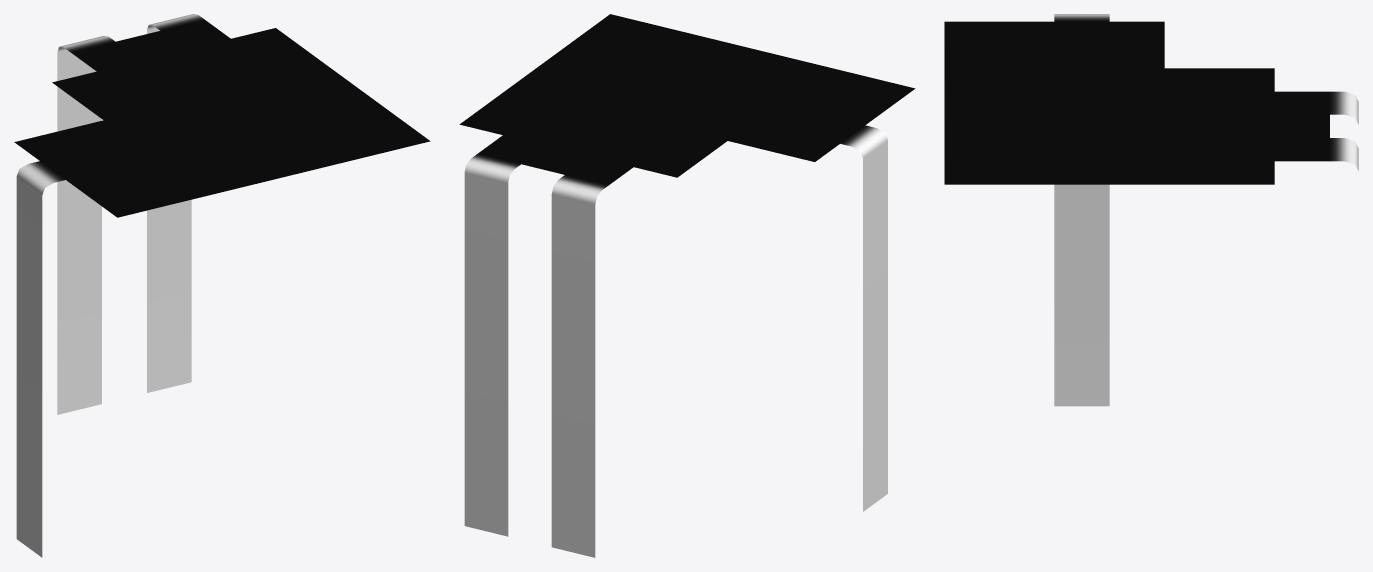
The model's file is sandRoom3Water_MESH.fbx.
3 renders of one model, left to right at view 1: azimuth 30°, elevation 25°; view 2: azimuth 150°, elevation 25°; view 3: azimuth 270°, elevation 25°, orthographic. The views are drawn at different scales.
Parts seen in each view (by area): view 1: sandRoom3; view 2: sandRoom3; view 3: sandRoom3.
Boxes of the visible parts, x1,y1,x2,y2 form: sandRoom3: (14, 14, 430, 557); sandRoom3: (459, 14, 915, 557); sandRoom3: (944, 14, 1358, 406).
Bounding box in the file's own units: 7.52 × 7.95 × 7.52.
Materials: 1 (1 with a texture image).
